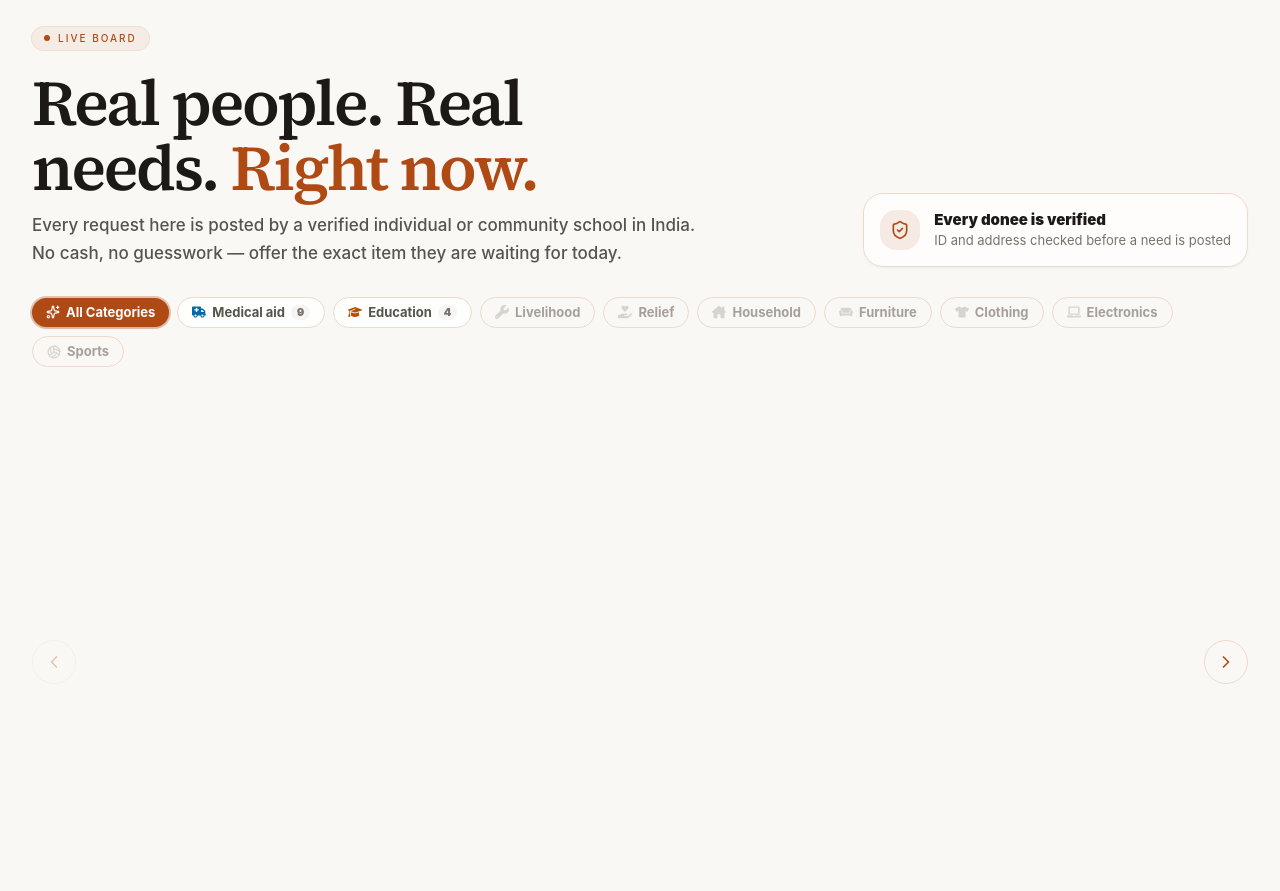
Test case: live needs overflow › counts within the selected category
This screenshot has width=1280, height=891.
Click the button "Medical aid 9" at (251, 312), box [177,296,325,328]
(page scrolled)
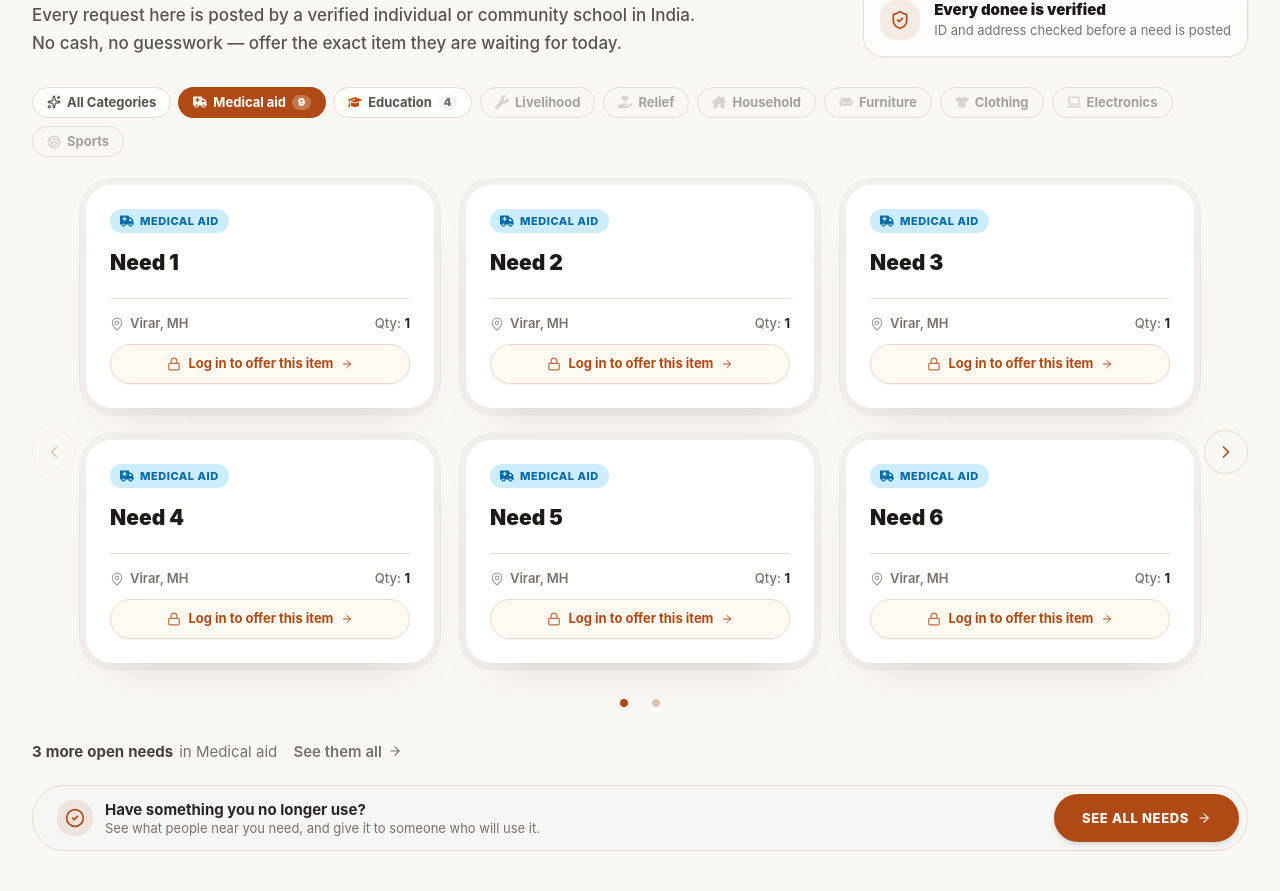
Now the text "3 more open needs" is shown, box [32,741,173,762]
Now the text "in Medical aid" is shown, box [179,741,277,762]
